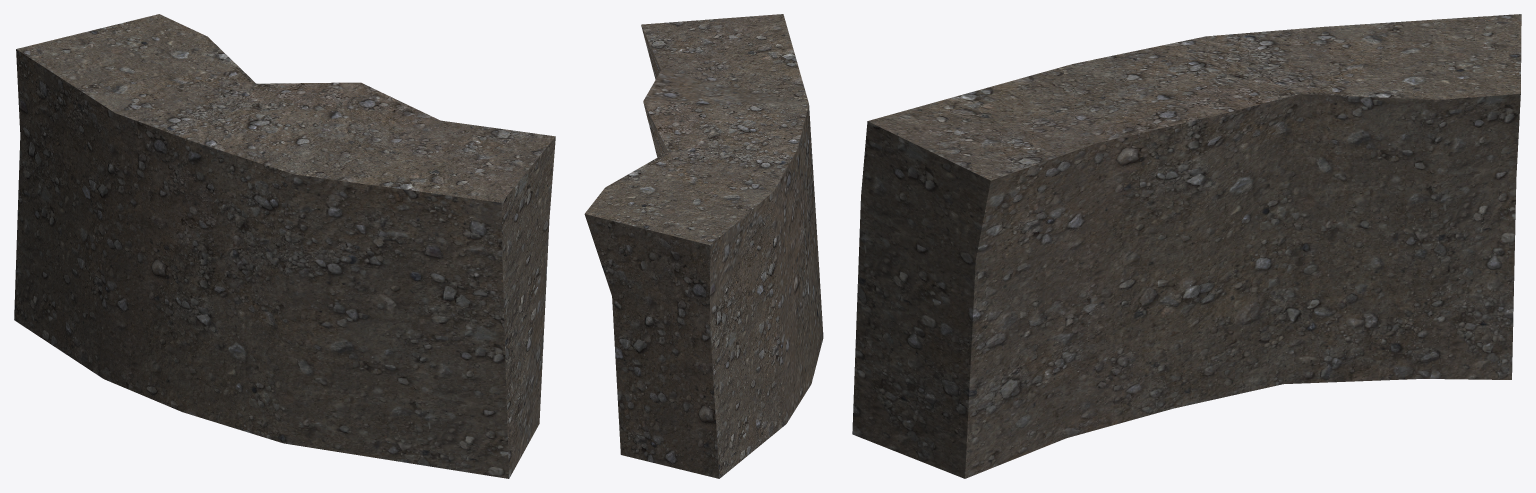
Rendered from cave_modules_cliff_turn_lowpoly_1.dae.
3 views of the same model, side by side, from view 1: azimuth 30°, elevation 25°; view 2: azimuth 150°, elevation 25°; view 3: azimuth 270°, elevation 25° (orthographic). The views are drawn at different scales.
Visible parts, largest first — view 1: Mesh; view 2: Mesh; view 3: Mesh.
Part boxes in pixels (x1,y1,x2,y2): Mesh: (14, 14, 555, 478); Mesh: (584, 14, 823, 478); Mesh: (852, 14, 1521, 478).
Bounding box in the file's own units: 4.57 × 3.87 × 7.29.
Materials: 1 (1 with a texture image).
